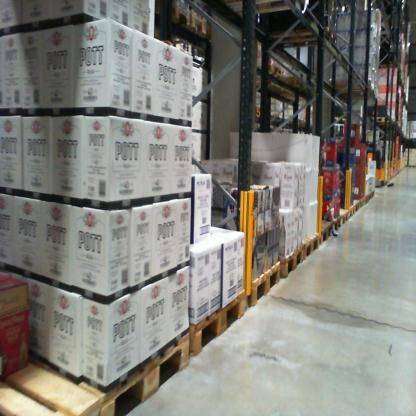pallet: (28, 321, 189, 411), (2, 360, 108, 413), (187, 282, 247, 356), (249, 16, 344, 50), (241, 258, 284, 314), (230, 1, 311, 26), (147, 2, 192, 39), (327, 79, 381, 107), (251, 73, 313, 93), (277, 240, 305, 278), (191, 9, 219, 44), (256, 58, 286, 83), (302, 233, 321, 259), (315, 215, 332, 243), (372, 112, 399, 127), (334, 203, 350, 221), (330, 214, 342, 234), (344, 201, 356, 221), (351, 196, 362, 214), (366, 188, 376, 203), (363, 192, 372, 205), (358, 196, 366, 208)
pallet_truck: (363, 134, 388, 187)
